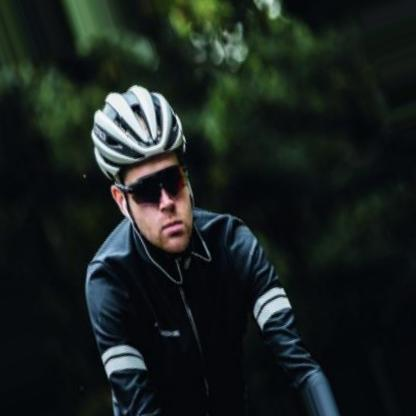with helmet: (89, 82, 194, 257)
